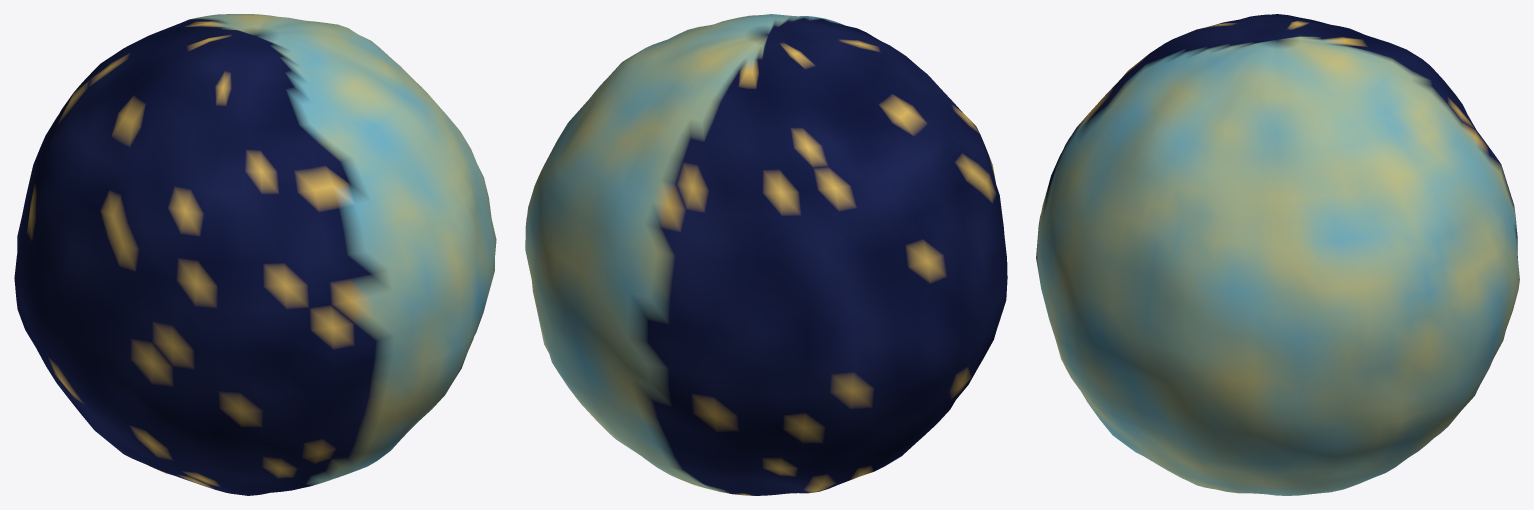
Rendered from planet_contrast.glb.
3 views of the same model, side by side, from view 1: azimuth 30°, elevation 25°; view 2: azimuth 150°, elevation 25°; view 3: azimuth 270°, elevation 25° (orthographic).
Visible parts, largest first — view 1: Surface; view 2: Surface; view 3: Surface.
Boxes of the visible parts, x1,y1,x2,y2 form: Surface: (14, 14, 496, 495); Surface: (525, 14, 1007, 495); Surface: (1036, 14, 1519, 495).
Bounding box in the file's own units: 2 × 2.01 × 2.02.
